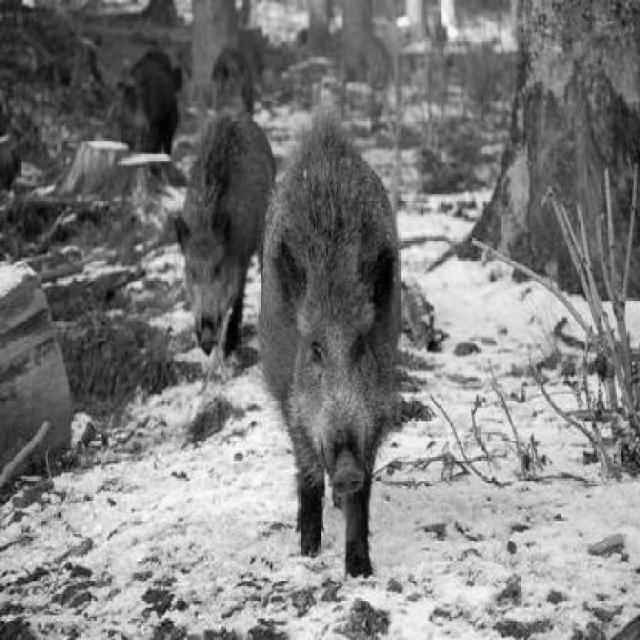Boar: (261, 90, 414, 556), (171, 95, 271, 352)
